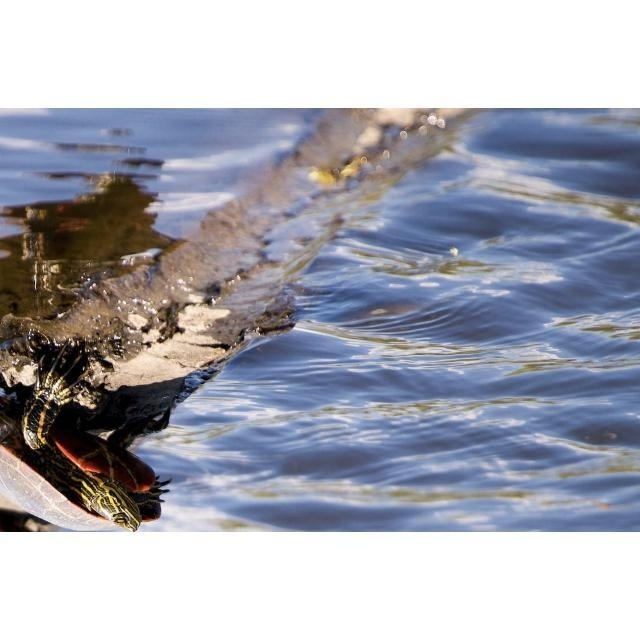turtle: (1, 342, 171, 530)
